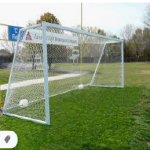goals: (2, 21, 126, 125)
